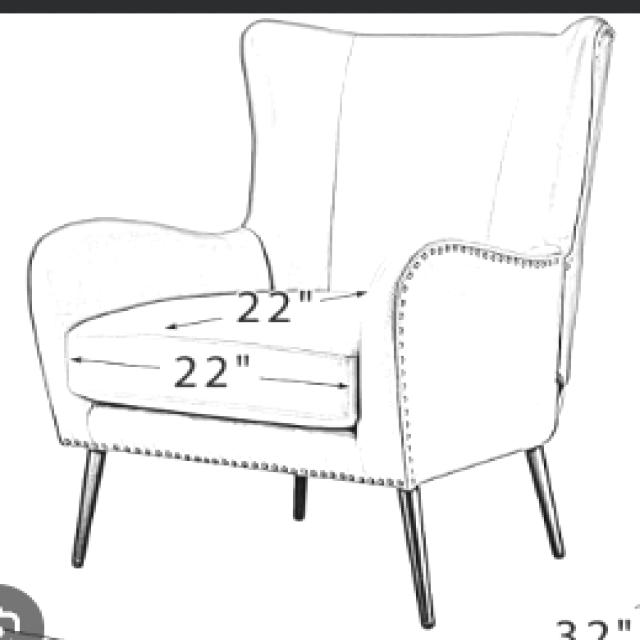Armrest: (24, 217, 272, 447), (355, 226, 568, 487)
Backrest: (324, 30, 545, 291)
Leg_Structure: (65, 439, 572, 632)
Seat: (60, 285, 371, 431)
Wing_Flange: (234, 16, 358, 293), (497, 15, 620, 250)
